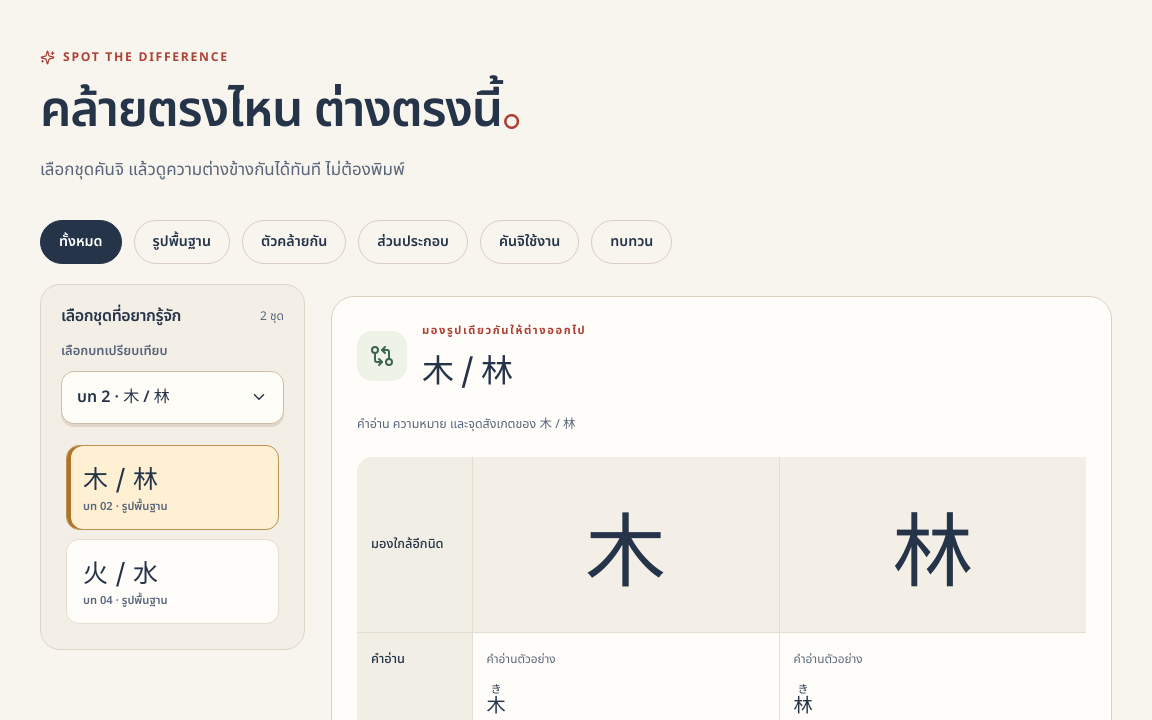
Scenario: switches curated comparison groups with zero text entry
Click the button "火 / 水 บท 04 · รูปพื้นฐาน" at (172, 582), box [66,539,279,624]
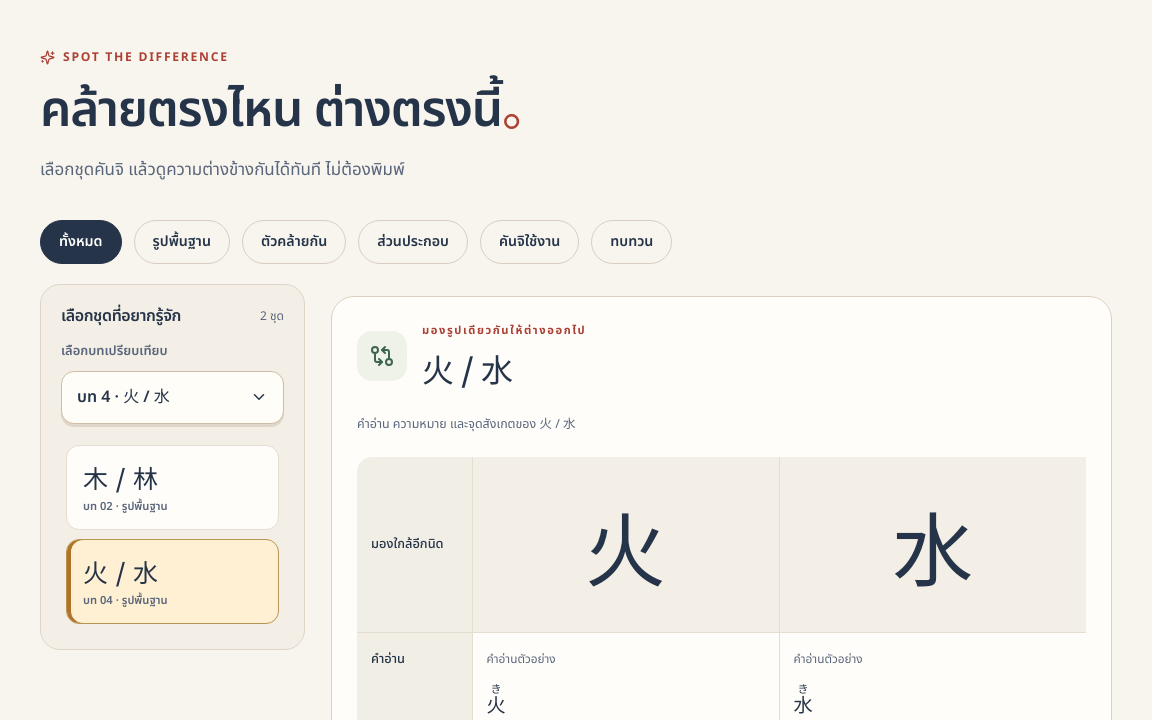
Click the button "ส่วนประกอบ" at (413, 242), box [358,220,468,264]
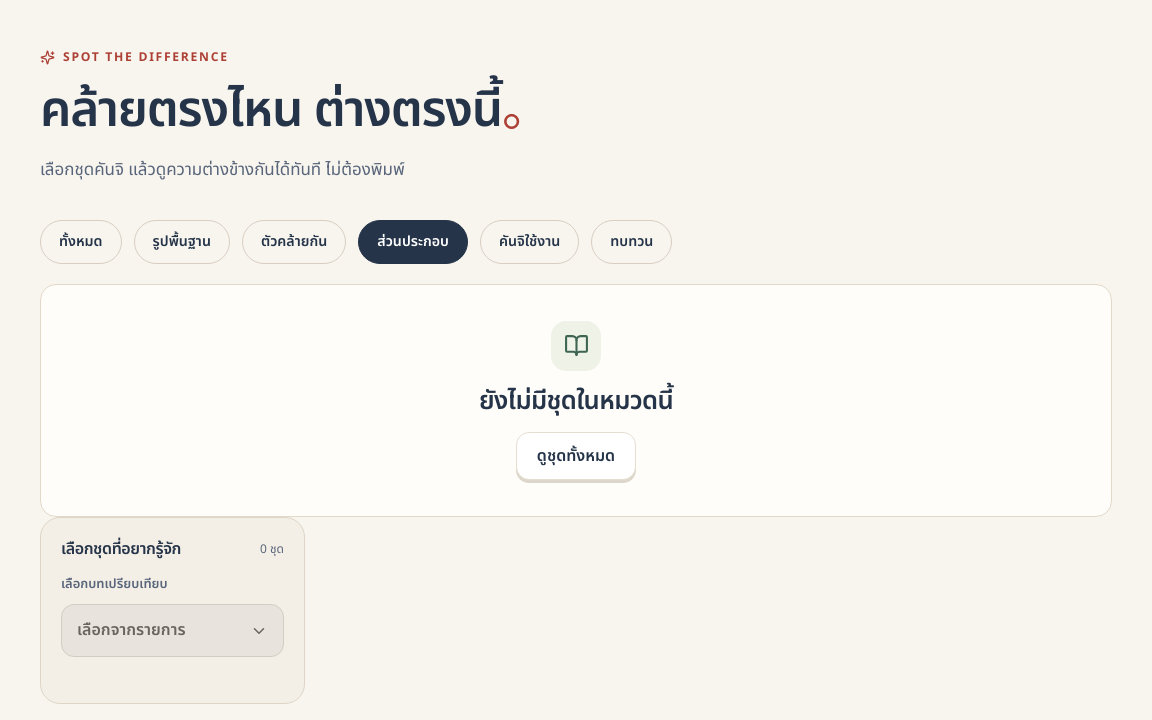
Expected: the heading "ยังไม่มีชุดในหมวดนี้" is shown, [479,383,673,420]
Click the button "ดูชุดทั้งหมด" at (576, 456), box [516,432,636,480]
(page scrolled)
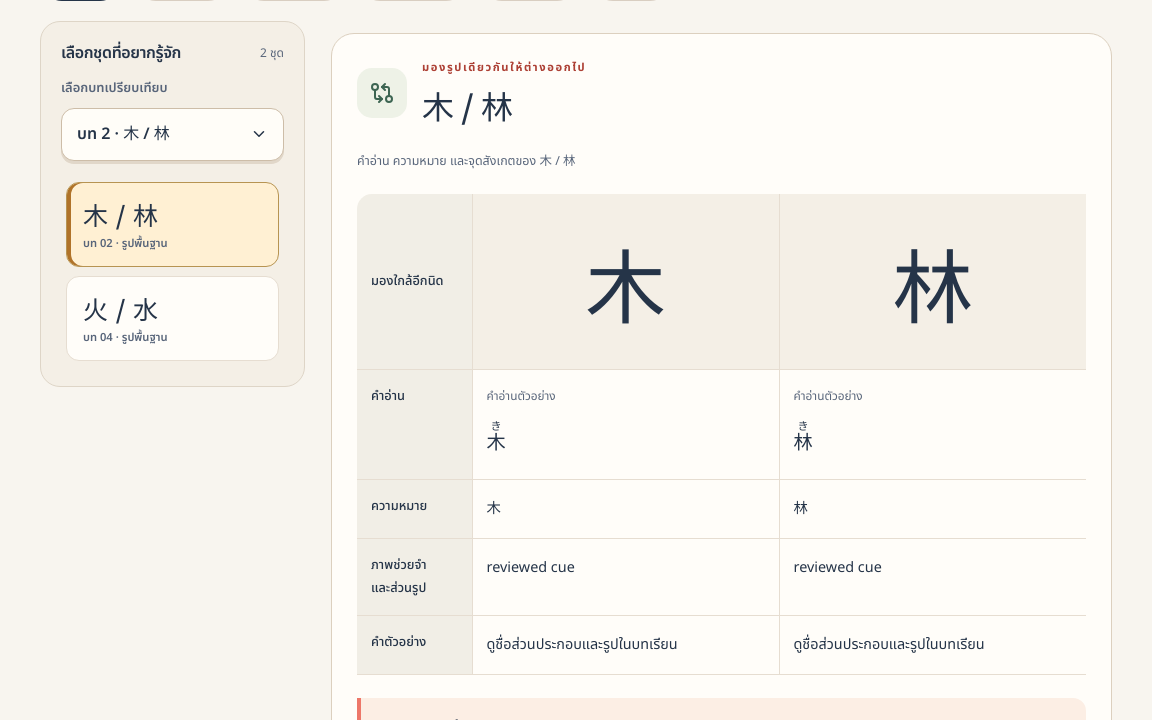
Expected: the table is shown, [357,146,1086,675]
